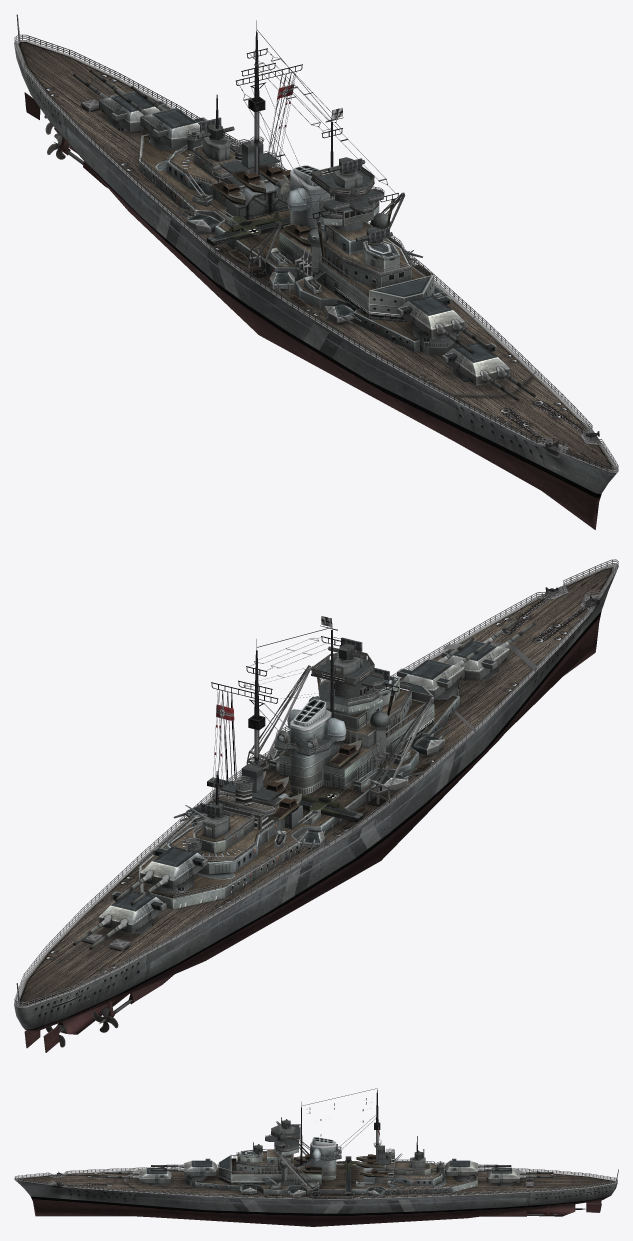
The model's file is Gem_bismack.FBX.
3 renders of one model, top to bottom at view 1: azimuth 30°, elevation 25°; view 2: azimuth 150°, elevation 25°; view 3: azimuth 270°, elevation 25°, orthographic. The views are drawn at different scales.
Visible parts, largest first — view 1: Gem_bismack, Gem_bismack_barbette_03, Gem_bismack_barbette_04, Gem_bismack_barbette_02, Gem_bismack_barbette_01; view 2: Gem_bismack, Gem_bismack_barbette_02, Gem_bismack_barbette_01, Gem_bismack_barbette_03, Gem_bismack_barbette_04; view 3: Gem_bismack, Gem_bismack_barbette_03, Gem_bismack_barbette_02, Gem_bismack_barbette_04, Gem_bismack_barbette_01.
Boxes of the visible parts, x1,y1,x2,y2 form: Gem_bismack: (14,14,618,529); Gem_bismack_barbette_03: (397,295,464,338); Gem_bismack_barbette_04: (442,342,509,385); Gem_bismack_barbette_02: (140,108,207,148); Gem_bismack_barbette_01: (99,91,166,131); Gem_bismack: (14,559,618,1052); Gem_bismack_barbette_02: (140,846,207,889); Gem_bismack_barbette_01: (98,891,166,934); Gem_bismack_barbette_03: (397,659,464,698); Gem_bismack_barbette_04: (442,640,509,680); Gem_bismack: (14,1088,618,1226); Gem_bismack_barbette_03: (184,1158,217,1175); Gem_bismack_barbette_02: (445,1158,477,1175); Gem_bismack_barbette_04: (139,1167,171,1183); Gem_bismack_barbette_01: (486,1167,519,1182).
Size of the model in its own units: 37.35 by 61.56 by 253.
Materials: 2 (2 with a texture image).
